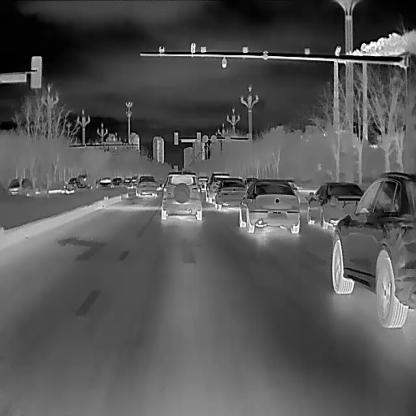car: (331, 171, 415, 328), (238, 178, 300, 233), (307, 180, 365, 230), (159, 169, 202, 219), (212, 174, 246, 210), (203, 171, 231, 202), (6, 176, 32, 197), (135, 174, 157, 197), (96, 175, 115, 191), (196, 174, 209, 190), (111, 174, 122, 190)
